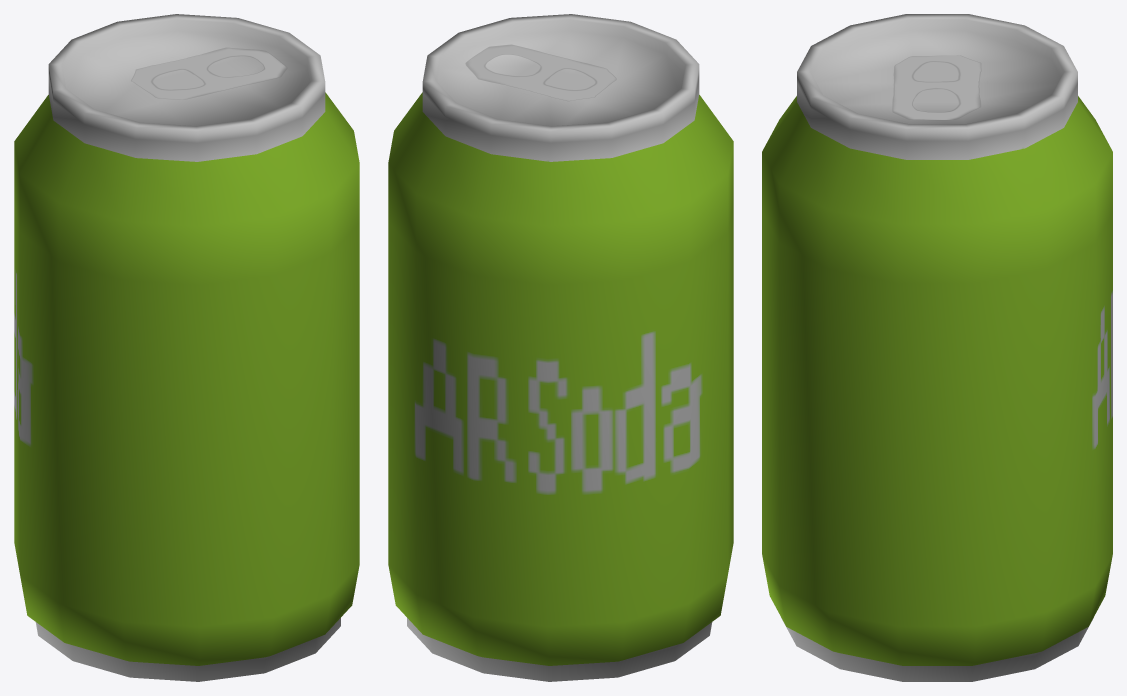
File: ARSODA.glb
3 views of the same model, side by side, from view 1: azimuth 30°, elevation 25°; view 2: azimuth 150°, elevation 25°; view 3: azimuth 270°, elevation 25° (orthographic).
Parts seen in each view (by area): view 1: Sylinder_14_Sider, Plane; view 2: Sylinder_14_Sider, Plane; view 3: Sylinder_14_Sider, Plane.
Boxes of the visible parts, left/top/right/bottom form: Sylinder_14_Sider: left=14, top=14, right=359, bottom=681; Plane: left=131, top=47, right=286, bottom=99; Sylinder_14_Sider: left=388, top=14, right=733, bottom=681; Plane: left=465, top=44, right=616, bottom=101; Sylinder_14_Sider: left=762, top=14, right=1112, bottom=681; Plane: left=892, top=55, right=981, bottom=119.
Bounding box in the file's own units: 1.95 × 3.43 × 2.
Materials: 2 (2 with a texture image).
